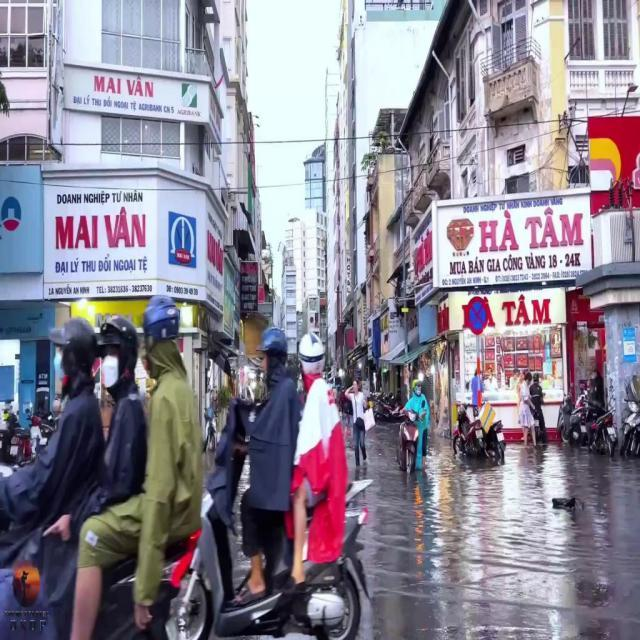130-cam-dung-va-do-xe: (466, 296, 488, 336)
